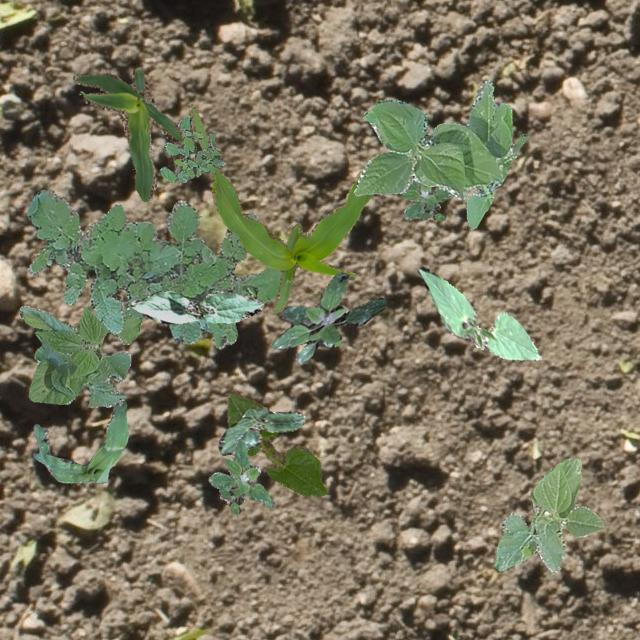crop: (188, 104, 372, 314), (352, 80, 528, 228), (72, 68, 182, 200), (19, 304, 142, 406), (493, 457, 602, 572), (416, 266, 540, 360), (226, 390, 326, 496), (32, 400, 128, 482), (130, 288, 262, 322), (218, 406, 304, 454)
weed: (25, 188, 282, 348), (270, 270, 386, 362), (208, 438, 274, 514), (158, 114, 225, 180), (401, 178, 452, 220)
